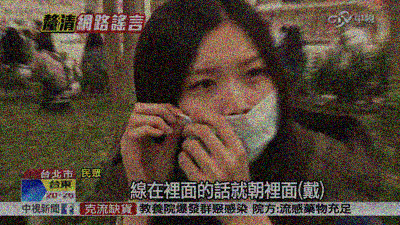mask_weared_incorrect: (179, 47, 283, 169)
